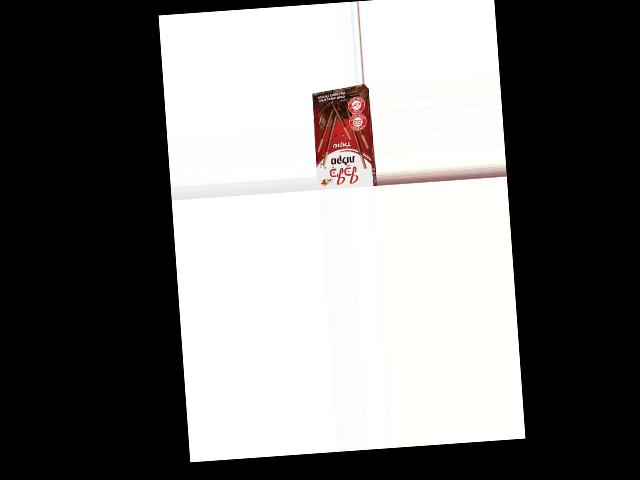chocolate: (310, 90, 376, 190)
